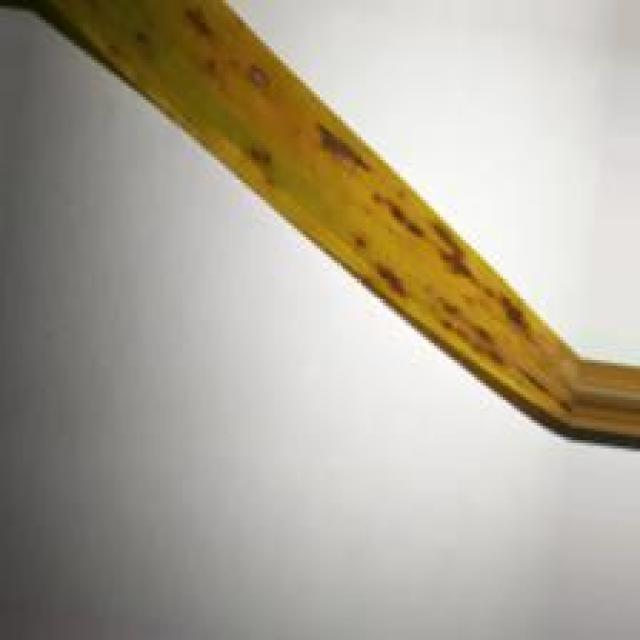Narrow_Brown_Leaf_Spot: (1, 0, 640, 456)
